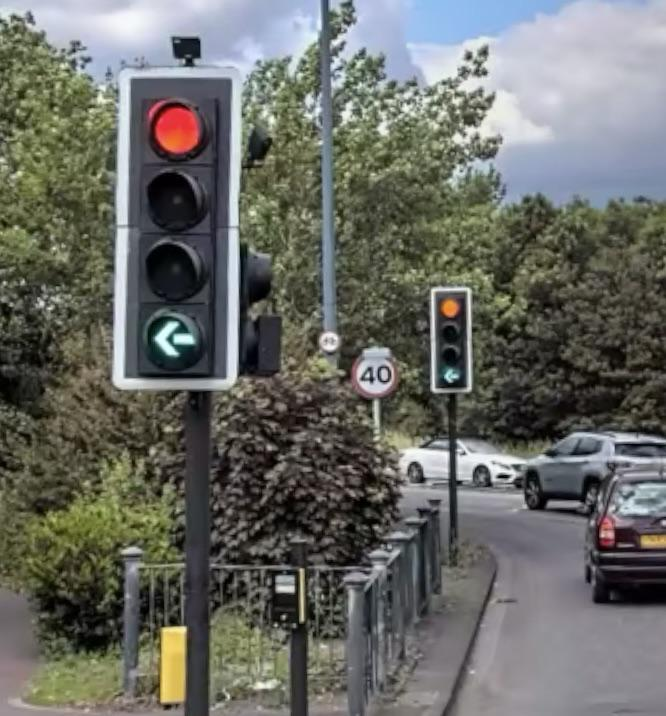red: (113, 67, 245, 390), (429, 287, 471, 394)
